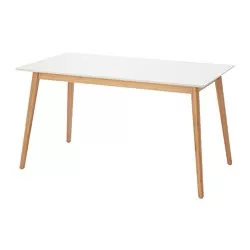Table: (14, 52, 236, 199)
